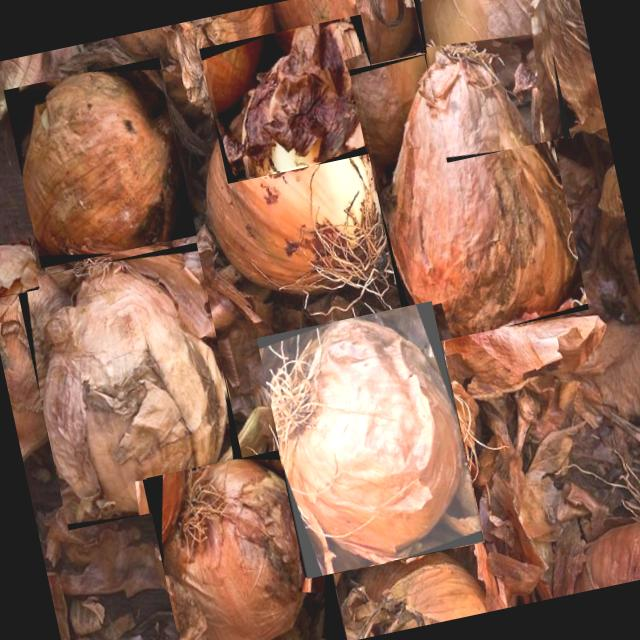rotten: (390, 47, 576, 336), (44, 260, 227, 513), (281, 317, 463, 562), (164, 460, 328, 640), (23, 71, 181, 253), (225, 22, 366, 163), (421, 0, 560, 142), (0, 246, 34, 295)
